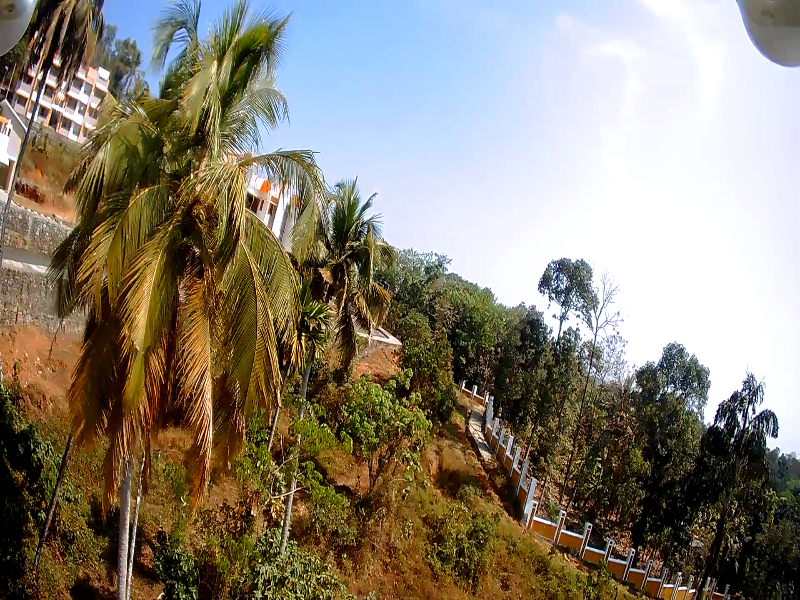coconut: (196, 208, 208, 221)
